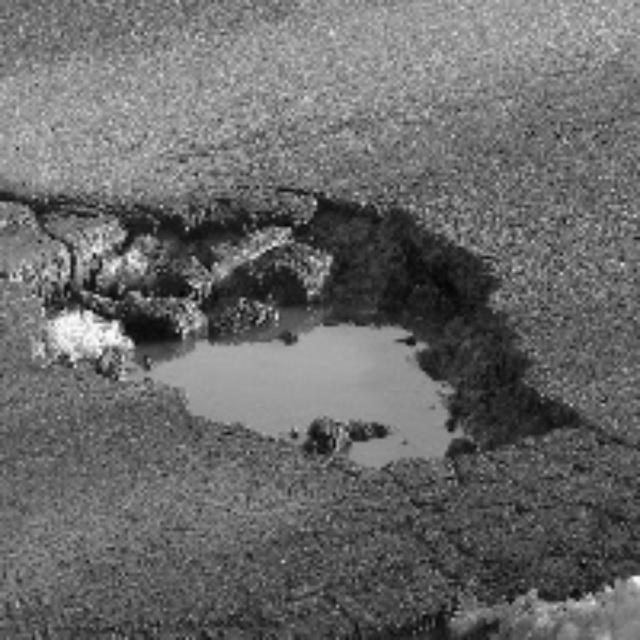Pothole: (141, 208, 514, 503)
